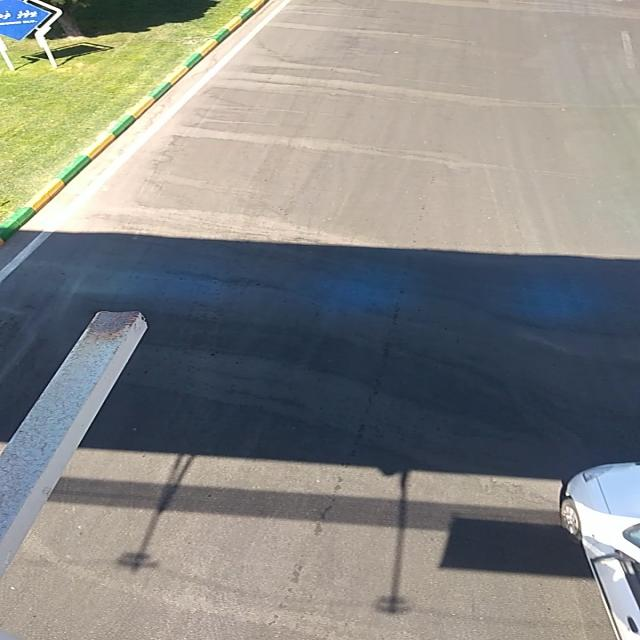car: (557, 461, 639, 638)
